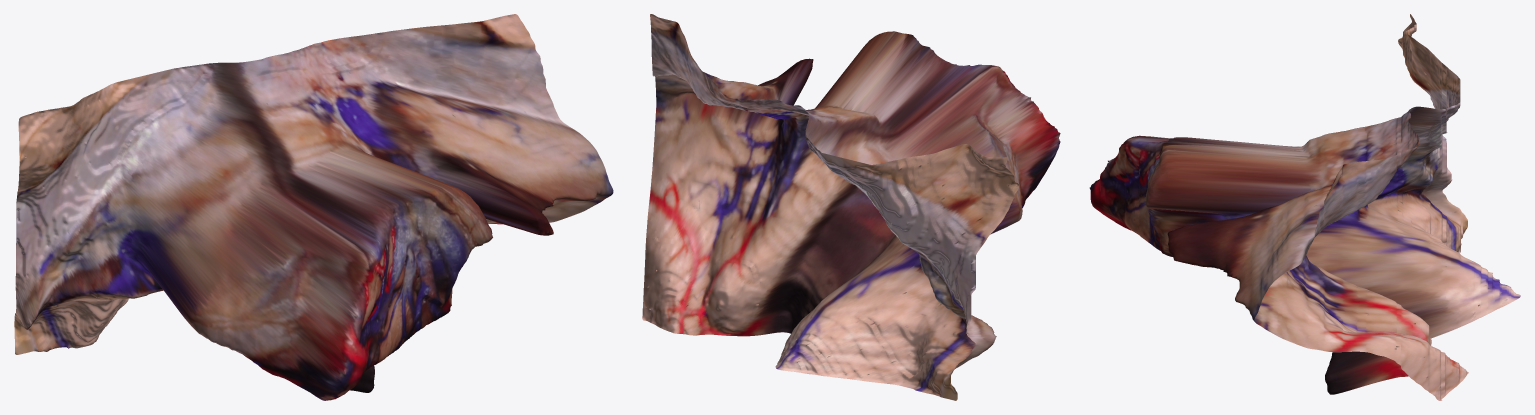
File: supracerebellar.glb
3 renders of one model, left to right at view 1: azimuth 30°, elevation 25°; view 2: azimuth 150°, elevation 25°; view 3: azimuth 270°, elevation 25°, orthographic. The views are drawn at different scales.
Visible parts, largest first — view 1: Object_2; view 2: Object_2; view 3: Object_2.
Part boxes in pixels (left/top/right/bottom): Object_2: left=14, top=14, right=613, bottom=400; Object_2: left=642, top=14, right=1060, bottom=400; Object_2: left=1089, top=14, right=1520, bottom=400.
Bounding box in the file's own units: 12.24 × 7.78 × 10.91.
1 material, 1 textured.
